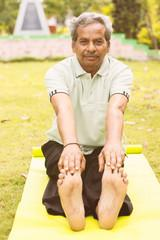Human: (38, 10, 140, 225)
